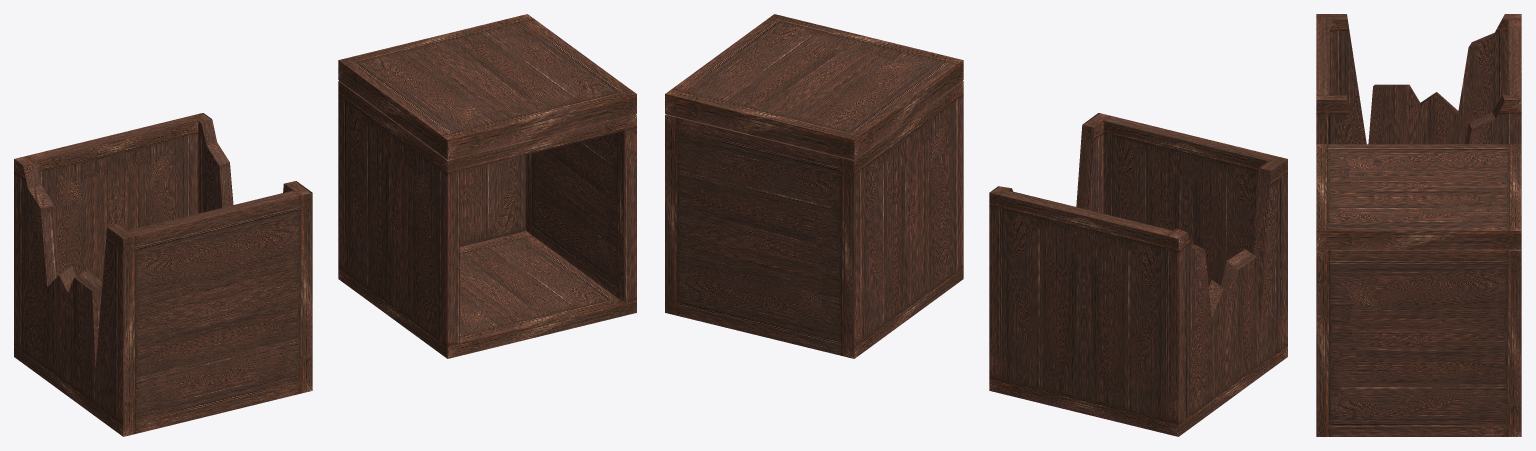
The model's file is boxes.glb.
3 views of the same model, side by side, from view 1: azimuth 30°, elevation 25°; view 2: azimuth 150°, elevation 25°; view 3: azimuth 270°, elevation 25° (orthographic). The views are drawn at different scales.
Parts seen in each view (by area): view 1: Crate_Broken, Crate_1_open, Crate_lid; view 2: Crate_Broken, Crate_1_open, Crate_lid; view 3: Crate_1_open, Crate_lid, Crate_Broken.
Part boxes in pixels (x1=…): Crate_Broken: x1=14, y1=113, x2=312, y2=436; Crate_1_open: x1=338, y1=81, x2=636, y2=358; Crate_lid: x1=338, y1=14, x2=636, y2=159; Crate_Broken: x1=989, y1=113, x2=1287, y2=436; Crate_1_open: x1=665, y1=81, x2=963, y2=358; Crate_lid: x1=665, y1=14, x2=963, y2=159; Crate_1_open: x1=1316, y1=249, x2=1521, y2=436; Crate_lid: x1=1316, y1=144, x2=1521, y2=249; Crate_Broken: x1=1316, y1=14, x2=1521, y2=144.
Size of the model in its own units: 1.5 by 0.6107 by 0.5526.
Materials: 1 (1 with a texture image).
